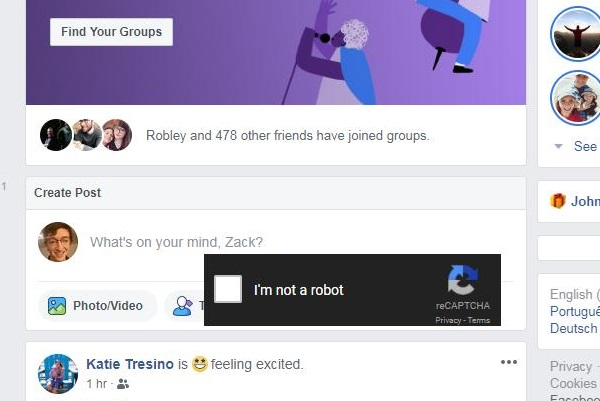captcha: (213, 273, 344, 303)
